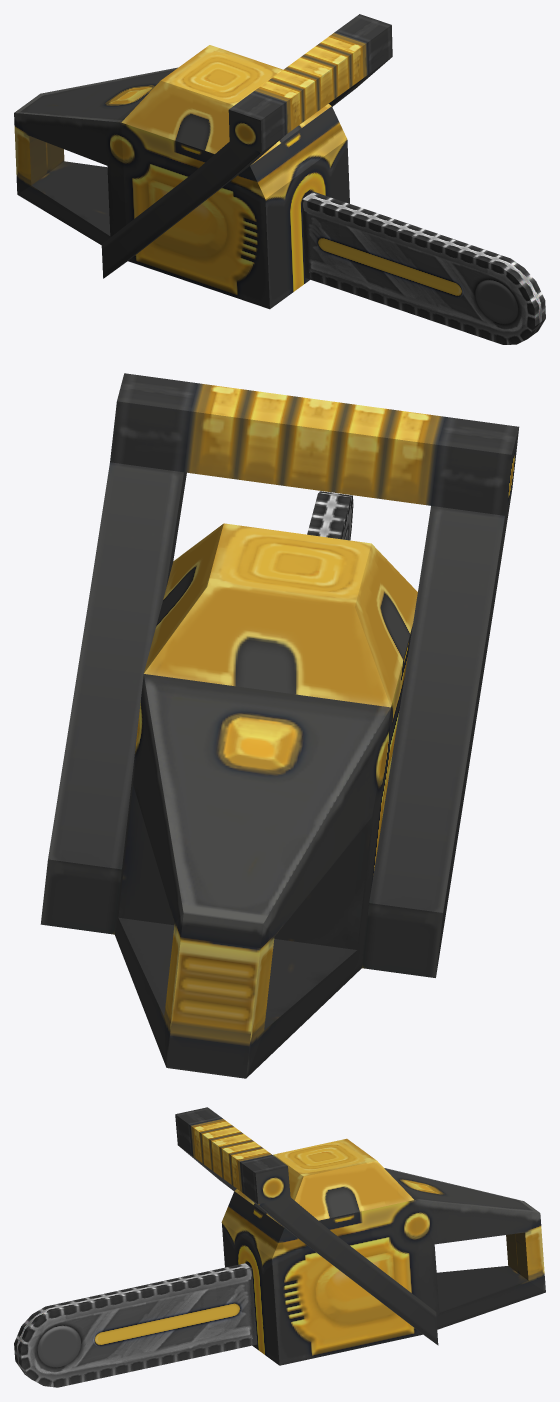
The model's file is tool_chainsaw.FBX.
3 renders of one model, top to bottom at view 1: azimuth 30°, elevation 25°; view 2: azimuth 150°, elevation 25°; view 3: azimuth 270°, elevation 25°, orthographic. The views are drawn at different scales.
Visible parts, largest first — view 1: chainsaw01; view 2: chainsaw01; view 3: chainsaw01.
Boxes of the visible parts, x1=… form: chainsaw01: x1=14, y1=14, x2=545, y2=344; chainsaw01: x1=40, y1=373, x2=519, y2=1078; chainsaw01: x1=14, y1=1107, x2=545, y2=1387.
Bounding box in the file's own units: 800 × 716 × 1597.
